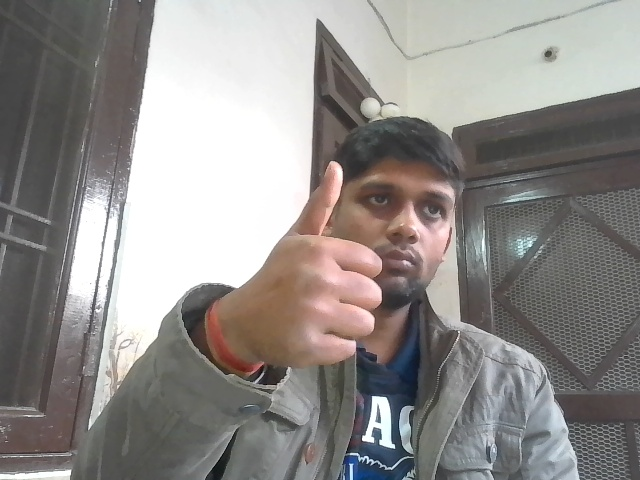BestOfLuck: (269, 159, 384, 371)
